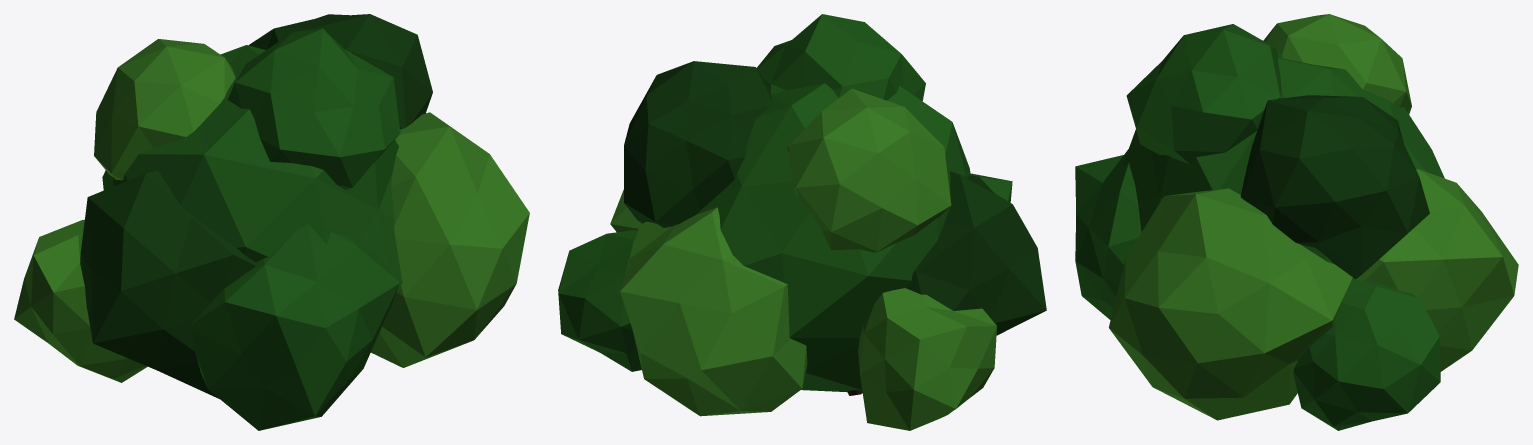
Rendered from low-poly-bush.obj.
3 views of the same model, side by side, from view 1: azimuth 30°, elevation 25°; view 2: azimuth 150°, elevation 25°; view 3: azimuth 270°, elevation 25° (orthographic). The views are drawn at different scales.
Parts seen in each view (by area): view 1: foliage_5, foliage_2, foliage_1, foliage_3, foliage_8, foliage_7, foliage_10, foliage_6; view 2: foliage_1, foliage_4, foliage_7, foliage_6, foliage_10, foliage_3, foliage_8, foliage_9, foliage_2, foliage_5; view 3: foliage_2, foliage_6, foliage_9, foliage_8, foliage_4, foliage_1, foliage_5, foliage_7.
Boxes of the visible parts, <box> form: foliage_5: <box>191,224,399,430</box>; foliage_2: <box>371,112,529,367</box>; foliage_1: <box>102,45,402,291</box>; foliage_3: <box>80,170,255,398</box>; foliage_8: <box>228,28,400,189</box>; foliage_7: <box>94,39,235,180</box>; foliage_10: <box>14,219,147,382</box>; foliage_6: <box>249,14,432,129</box>; foliage_1: <box>697,83,970,392</box>; foliage_4: <box>620,207,807,416</box>; foliage_7: <box>787,88,951,252</box>; foliage_6: <box>624,61,772,227</box>; foliage_10: <box>858,288,996,430</box>; foliage_3: <box>905,171,1046,335</box>; foliage_8: <box>757,14,925,100</box>; foliage_9: <box>558,230,641,371</box>; foliage_2: <box>610,189,641,232</box>; foliage_5: <box>970,173,1012,202</box>; foliage_2: <box>1109,188,1352,420</box>; foliage_6: <box>1240,95,1429,279</box>; foliage_9: <box>1293,279,1440,430</box>; foliage_8: <box>1126,24,1284,164</box>; foliage_4: <box>1353,169,1518,371</box>; foliage_1: <box>1122,58,1444,263</box>; foliage_5: <box>1075,149,1141,319</box>; foliage_7: <box>1263,14,1411,114</box>.
Size of the model in its own units: 1.26 by 0.9954 by 1.16.
